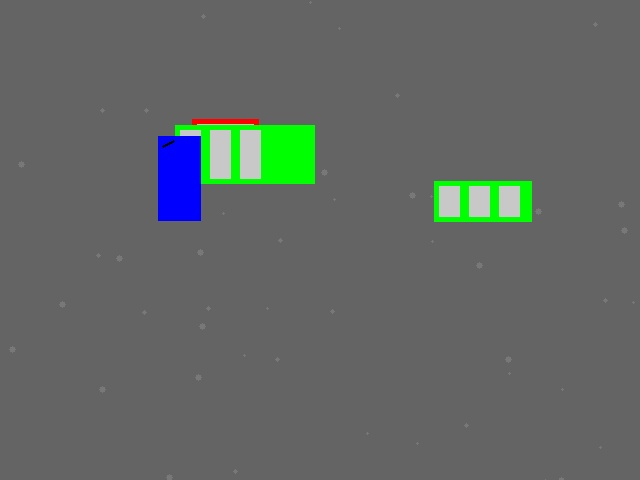bus: (175, 125, 314, 183), (434, 181, 531, 221)
car: (192, 119, 258, 152)
motorcycle: (158, 136, 200, 220)
